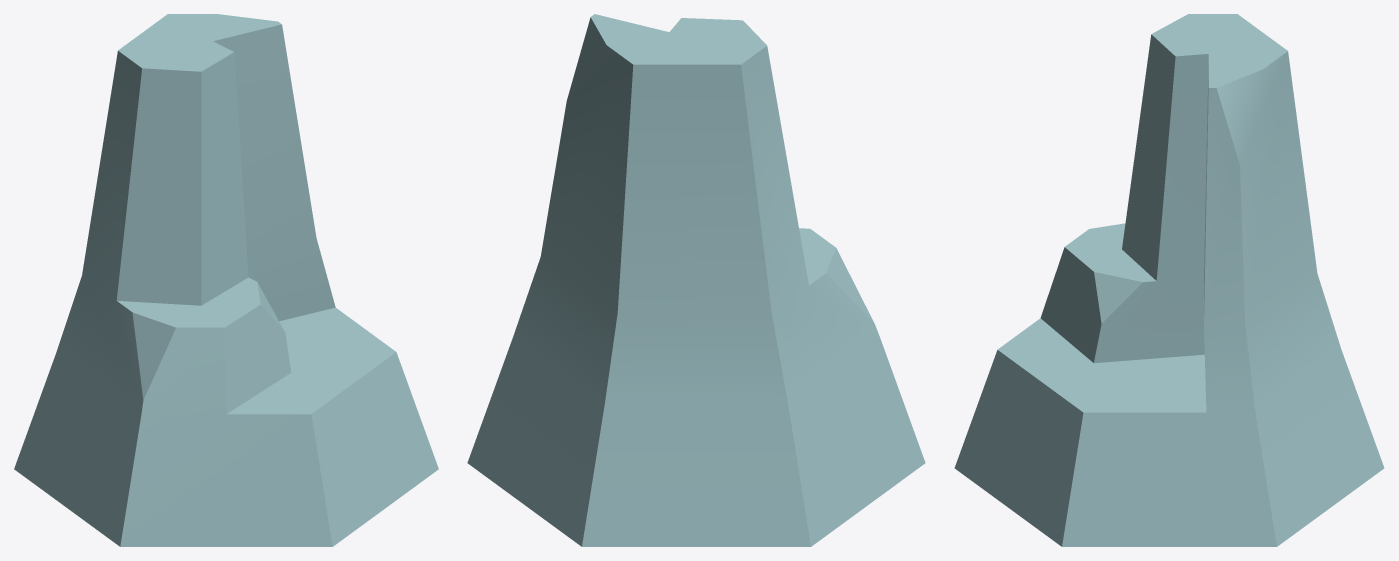
Rendered from stone_tall8.fbx.
3 renders of one model, left to right at view 1: azimuth 30°, elevation 25°; view 2: azimuth 150°, elevation 25°; view 3: azimuth 270°, elevation 25°, orthographic. The views are drawn at different scales.
Visible parts, largest first — view 1: stone_tall8; view 2: stone_tall8; view 3: stone_tall8.
Part boxes in pixels (box(x1,y1,x2,y2)): stone_tall8: box(14, 14, 438, 546); stone_tall8: box(467, 14, 925, 546); stone_tall8: box(954, 14, 1384, 546).
Size of the model in its own units: 5.75 by 7.11 by 6.64.
